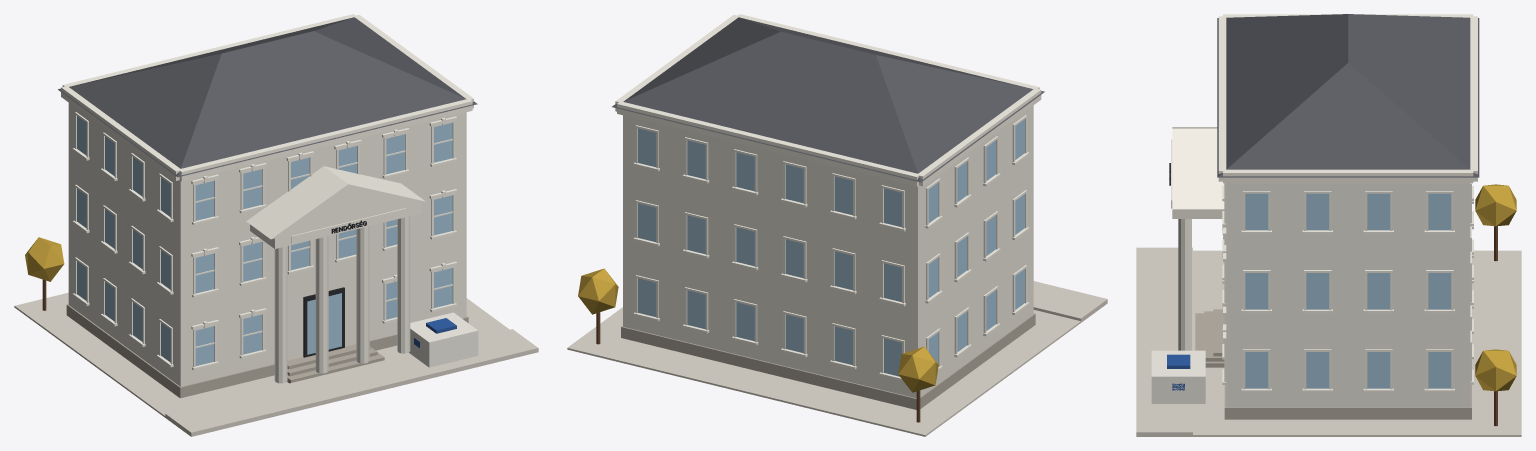
Rendered from Kamu_polis_1_Hafif.fbx.
3 views of the same model, side by side, from view 1: azimuth 30°, elevation 25°; view 2: azimuth 150°, elevation 25°; view 3: azimuth 270°, elevation 25° (orthographic). The views are drawn at different scales.
Parts seen in each view (by area): view 1: Kamu_polis_1_Hafif; view 2: Kamu_polis_1_Hafif; view 3: Kamu_polis_1_Hafif.
Part boxes in pixels (box(x1,y1,x2,y2)): Kamu_polis_1_Hafif: box(14, 14, 538, 436); Kamu_polis_1_Hafif: box(567, 14, 1107, 436); Kamu_polis_1_Hafif: box(1136, 14, 1521, 436).
Size of the model in its own units: 17 by 13.15 by 15.
